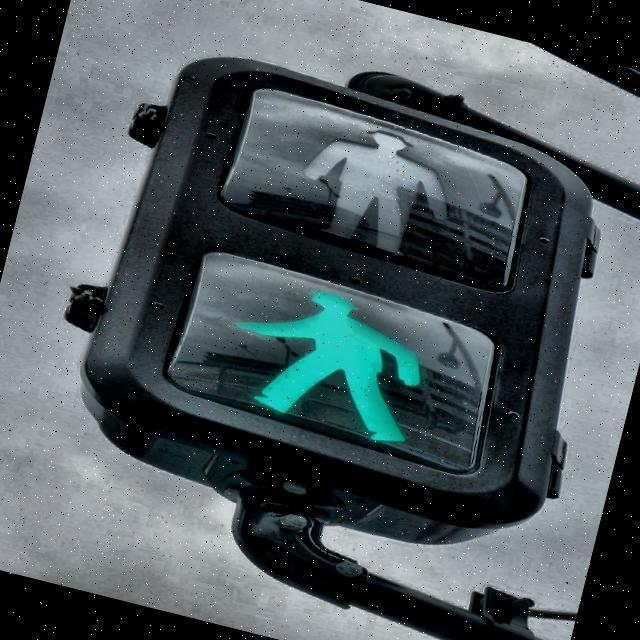green_light: (210, 268, 442, 452)
